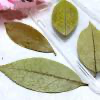Blueberry leaf: (0, 57, 84, 94), (3, 21, 57, 57), (77, 21, 99, 75), (51, 0, 80, 38)
